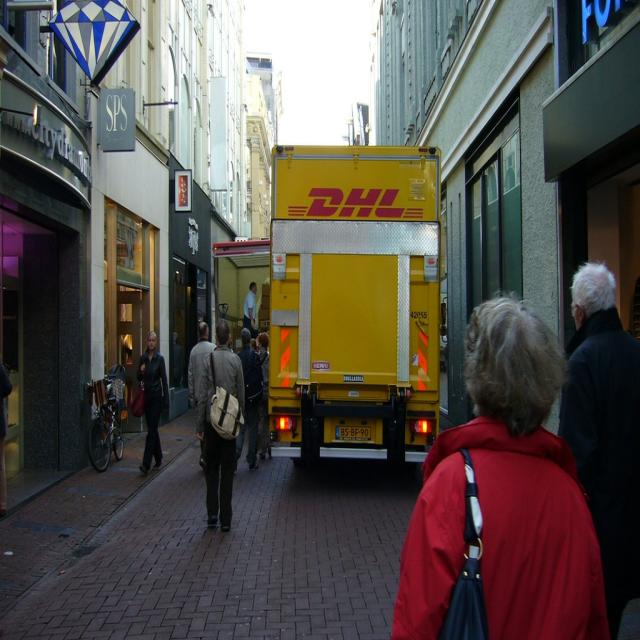dhl: (283, 186, 433, 223)
